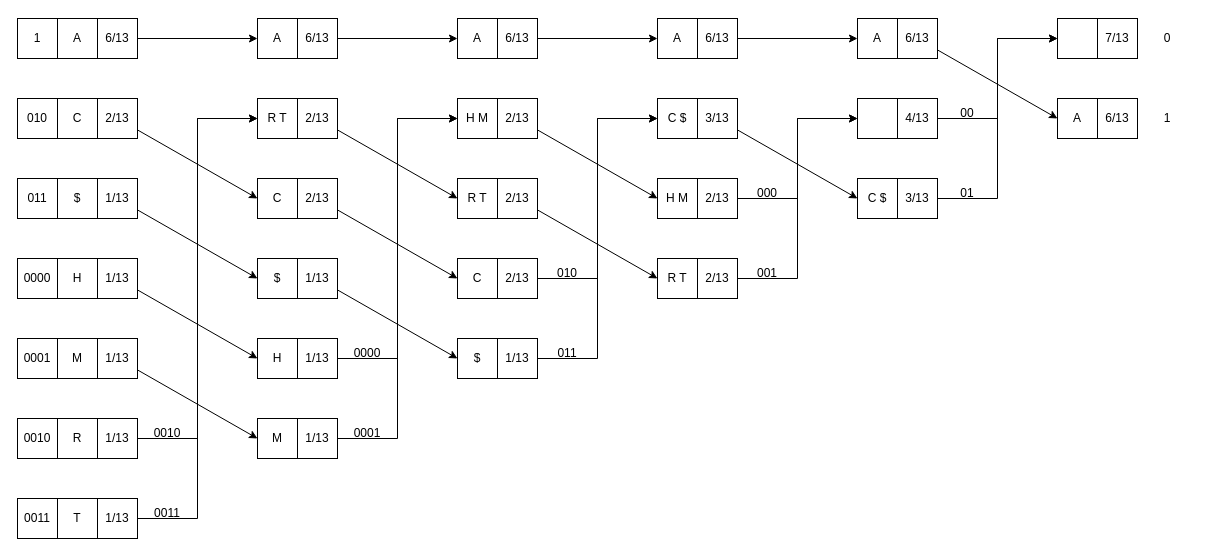
Image size: 1215x556. Some labels were removed from this diagram. The centre of each missing label's shape, as x and y in pixels:
"H M R T" belongs at (x=877, y=118).
"HM R T C $" belongs at (x=1077, y=38).
